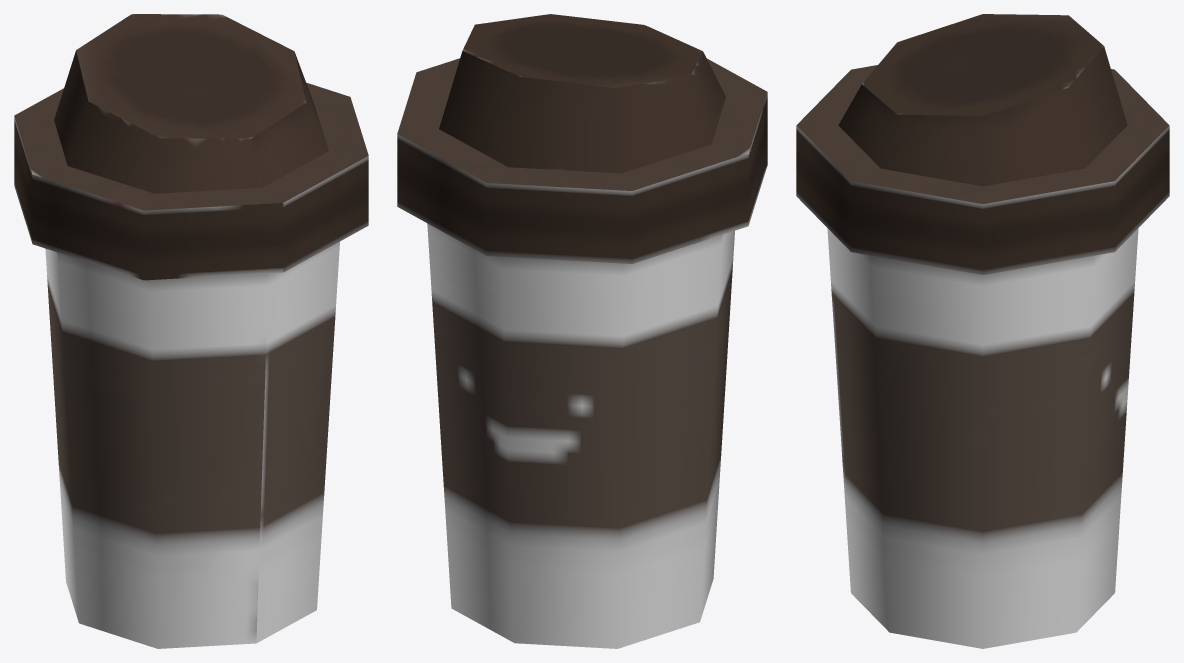
The model's file is Cup_001_A.FBX.
3 views of the same model, side by side, from view 1: azimuth 30°, elevation 25°; view 2: azimuth 150°, elevation 25°; view 3: azimuth 270°, elevation 25° (orthographic). The views are drawn at different scales.
Visible parts, largest first — view 1: Cup_001_A; view 2: Cup_001_A; view 3: Cup_001_A.
Boxes of the visible parts, x1,y1,x2,y2 form: Cup_001_A: [14, 14, 368, 648]; Cup_001_A: [397, 14, 767, 648]; Cup_001_A: [796, 14, 1169, 648].
Bounding box in the file's own units: 11.84 × 11.84 × 19.15.
